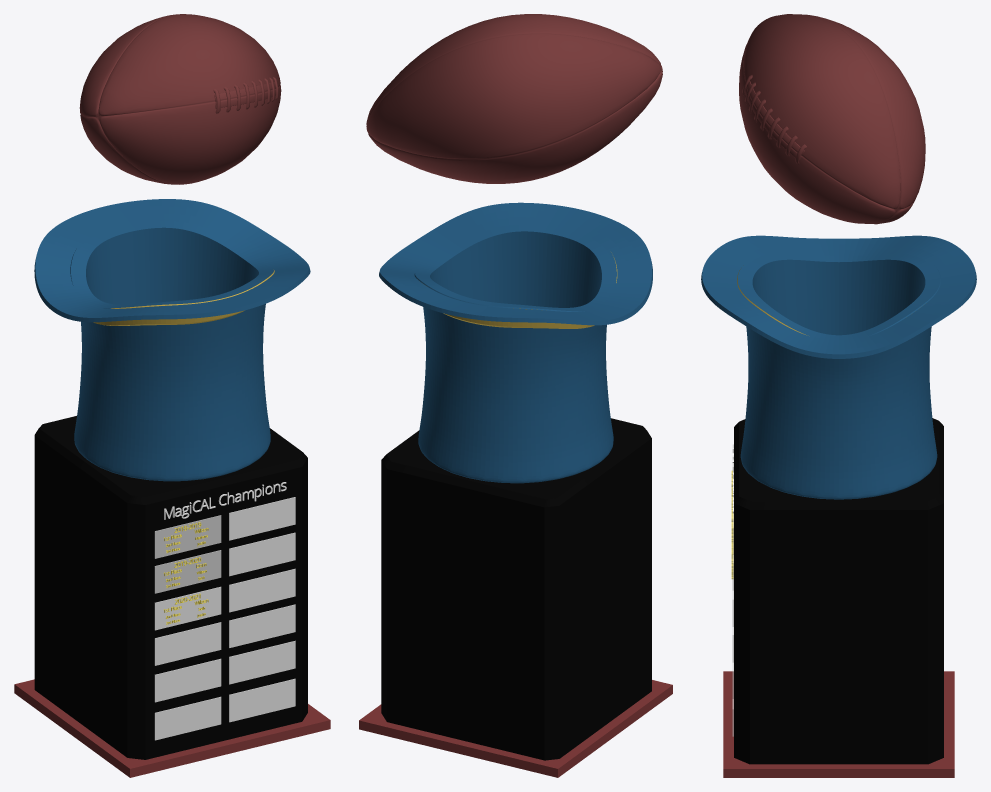
The model's file is Trophy3.glb.
3 views of the same model, side by side, from view 1: azimuth 30°, elevation 25°; view 2: azimuth 150°, elevation 25°; view 3: azimuth 270°, elevation 25° (orthographic).
Visible parts, largest first — view 1: Buffer_Layer, Box_1_-_baked, football, Box, Box_3, Box_6, Box_5, Box_7, Box_10, Box_11, Box_12, Box_8 (+5 smaller); view 2: Box_1_-_baked, Buffer_Layer, football, Box, 179_Buffer_Layer; view 3: Box_1_-_baked, Buffer_Layer, football, Box.
Part boxes in pixels (x1=…): Buffer_Layer: x1=34, y1=199, x2=310, y2=481; Box_1_-_baked: x1=34, y1=416, x2=307, y2=759; football: x1=79, y1=14, x2=281, y2=184; Box: x1=14, y1=679, x2=330, y2=777; Box_3: x1=154, y1=622, x2=221, y2=665; Box_6: x1=154, y1=696, x2=221, y2=740; Box_5: x1=154, y1=658, x2=221, y2=702; Box_7: x1=229, y1=678, x2=295, y2=722; Box_10: x1=229, y1=568, x2=295, y2=612; Box_11: x1=229, y1=532, x2=295, y2=576; Box_12: x1=229, y1=497, x2=295, y2=540; Box_8: x1=229, y1=640, x2=295, y2=684; Box_1_-_baked: x1=381, y1=418, x2=651, y2=760; Buffer_Layer: x1=379, y1=202, x2=652, y2=483; football: x1=366, y1=14, x2=662, y2=183; Box: x1=359, y1=680, x2=672, y2=777; 179_Buffer_Layer: x1=443, y1=252, x2=617, y2=328; Box_1_-_baked: x1=734, y1=418, x2=943, y2=764; Buffer_Layer: x1=701, y1=235, x2=976, y2=499; football: x1=739, y1=14, x2=925, y2=224; Box: x1=723, y1=671, x2=954, y2=777.
Bounding box in the file's own units: 317 × 866 × 313.
